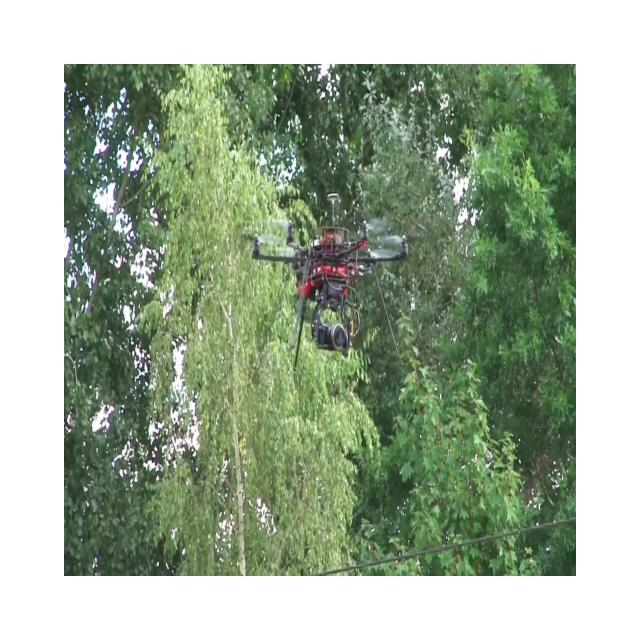drone: (243, 190, 417, 370)
